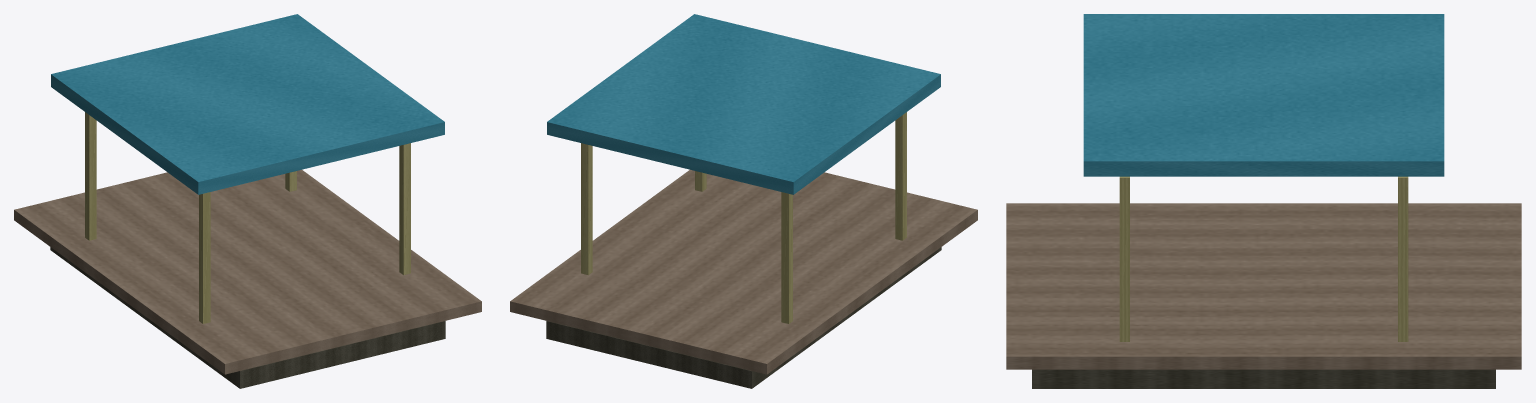
File: bung-raft-0-blue-lod.glb
3 renders of one model, left to right at view 1: azimuth 30°, elevation 25°; view 2: azimuth 150°, elevation 25°; view 3: azimuth 270°, elevation 25°, orthographic. The views are drawn at different scales.
Parts seen in each view (by area): view 1: bung-raft-0-blue-lod; view 2: bung-raft-0-blue-lod; view 3: bung-raft-0-blue-lod.
Boxes of the visible parts, x1,y1,x2,y2 form: bung-raft-0-blue-lod: [14, 14, 481, 388]; bung-raft-0-blue-lod: [510, 14, 977, 388]; bung-raft-0-blue-lod: [1006, 14, 1521, 388].
Bounding box in the file's own units: 3.8 × 2.78 × 5.4.
Materials: 1 (1 with a texture image).
